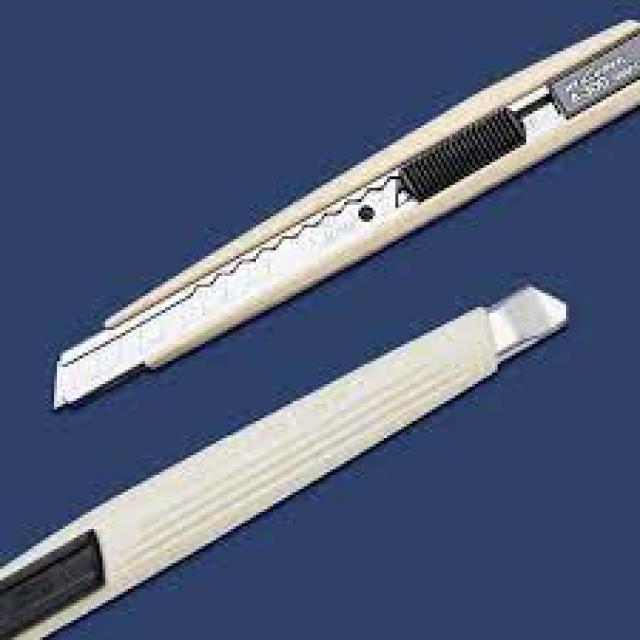cutter: (37, 1, 640, 428), (0, 272, 577, 640)
